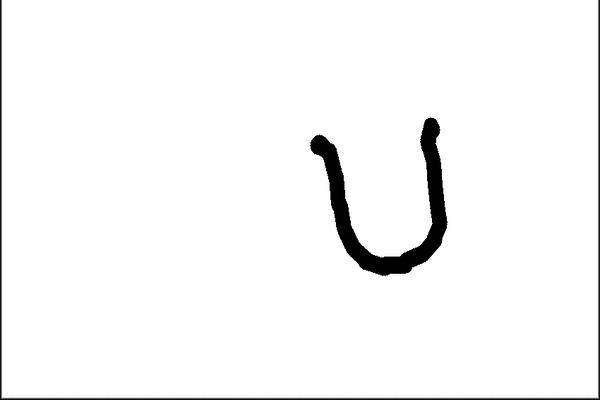U: (307, 111, 459, 276)
